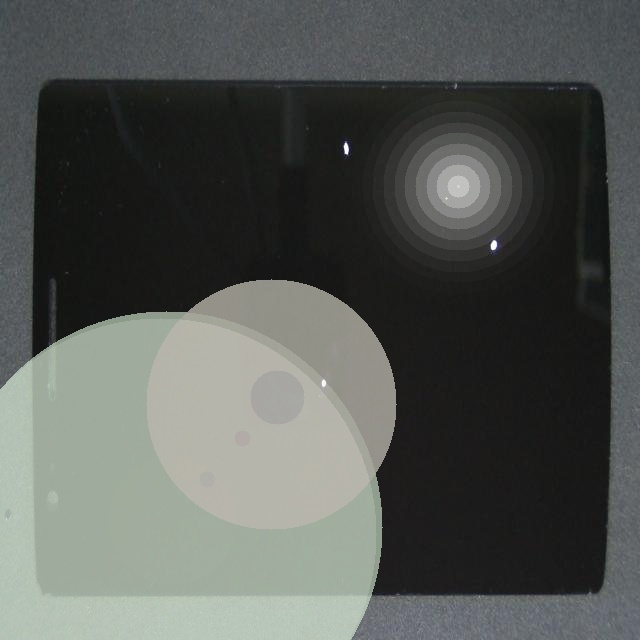stain: (121, 164, 454, 595), (207, 114, 640, 396), (135, 82, 509, 250)
